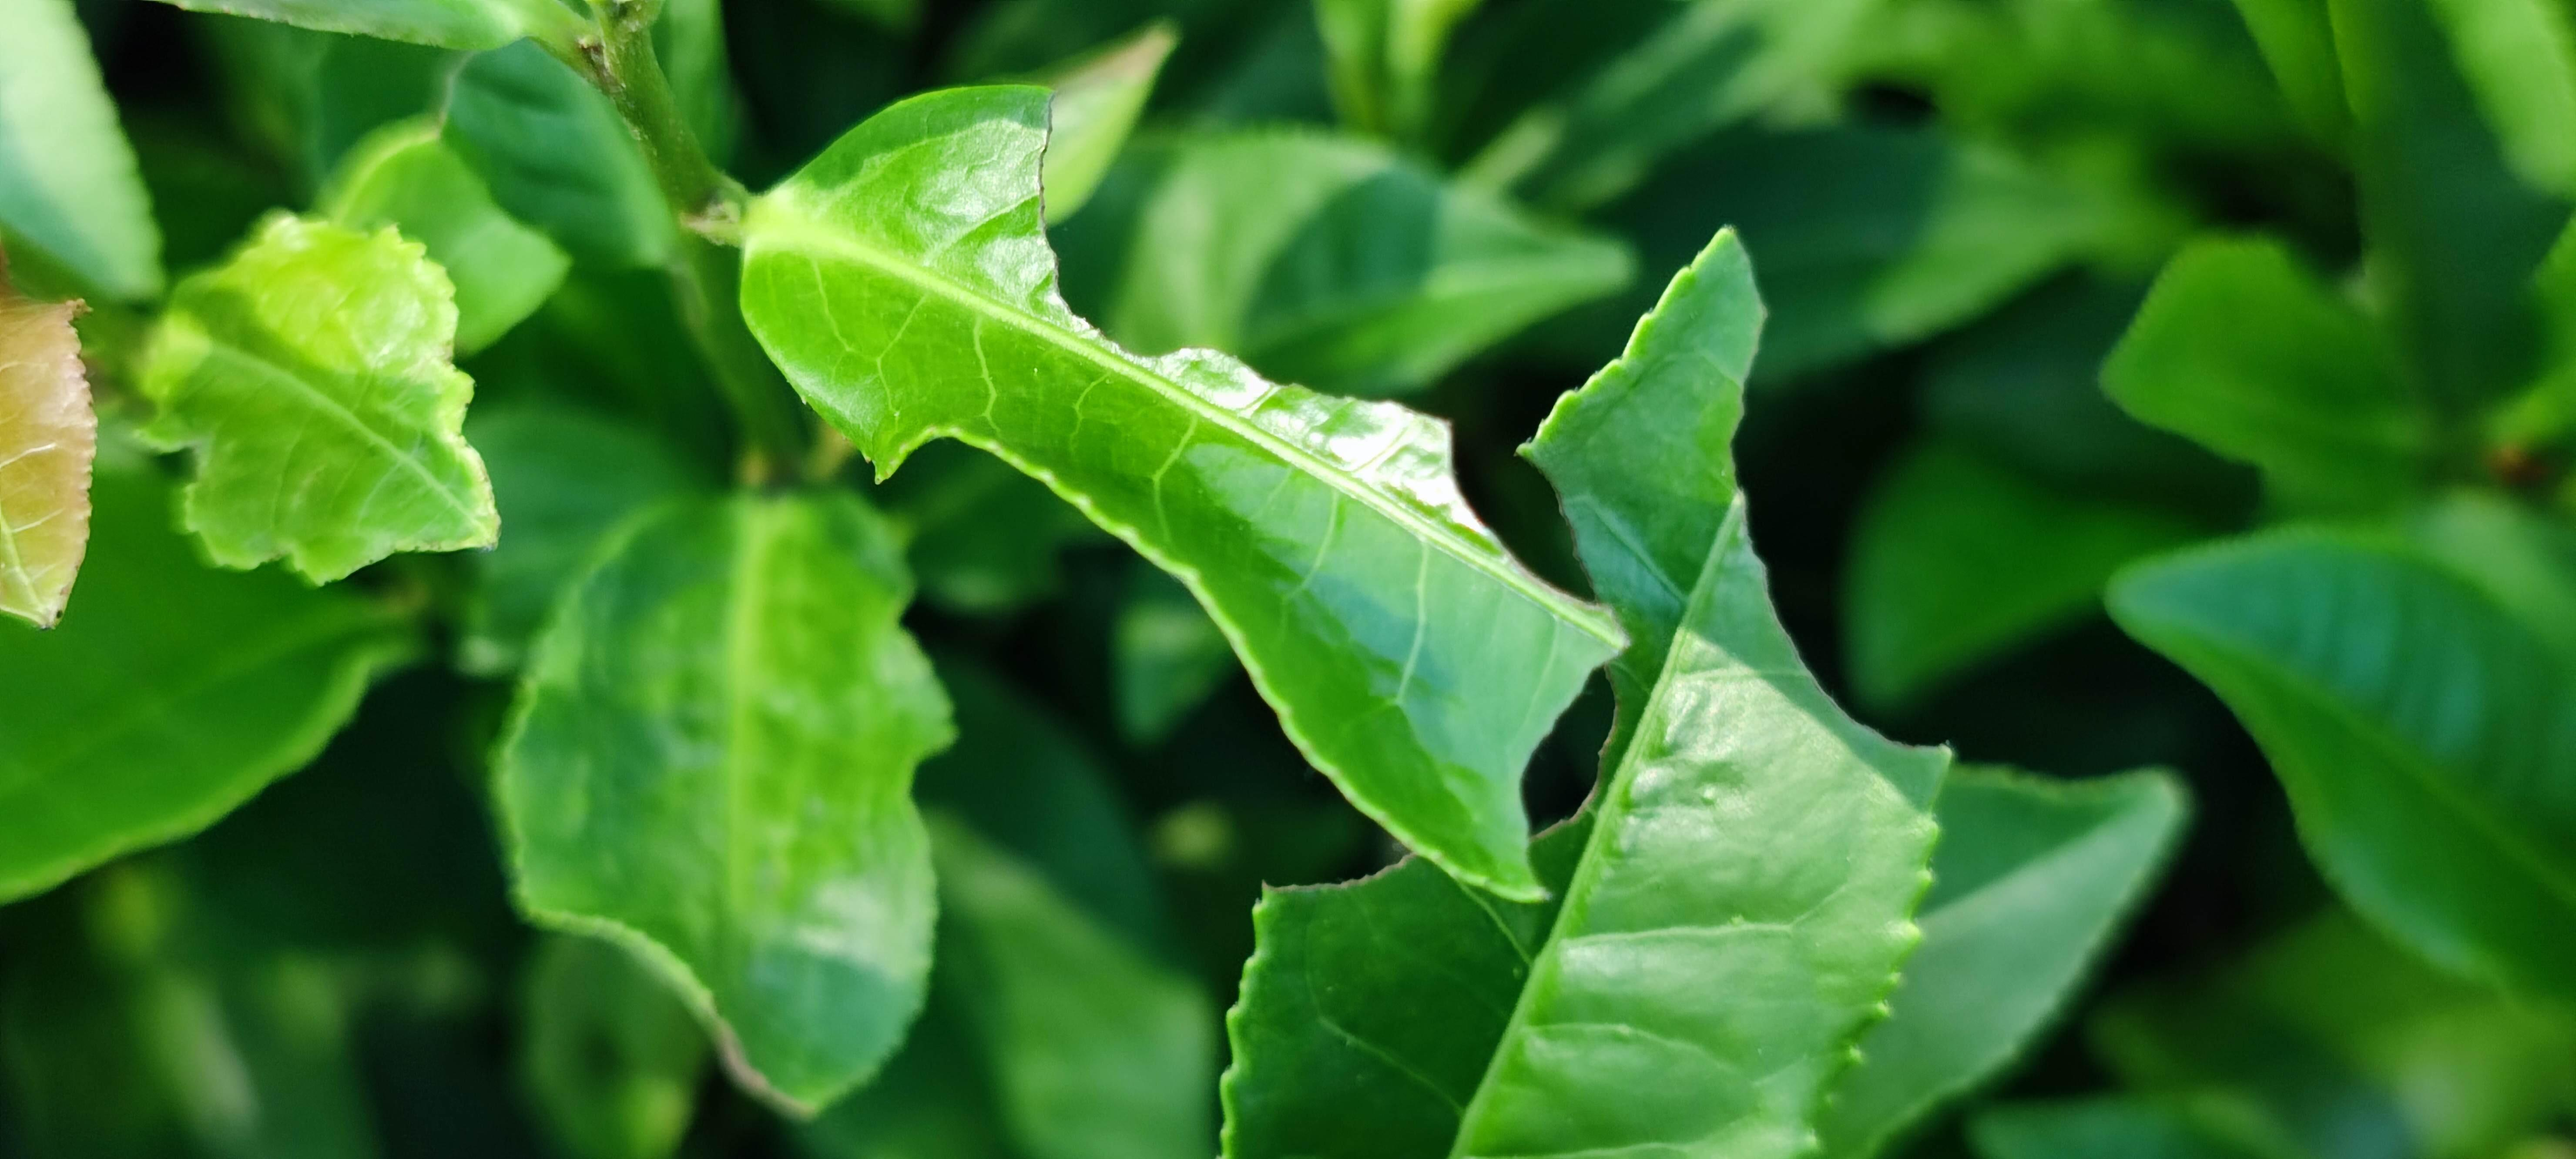chihuo_high: (733, 76, 1635, 909), (1219, 225, 1963, 1154), (128, 205, 503, 596)
healthy: (481, 484, 959, 1125), (2093, 522, 2574, 1024)
tanju_low: (0, 264, 103, 630)
